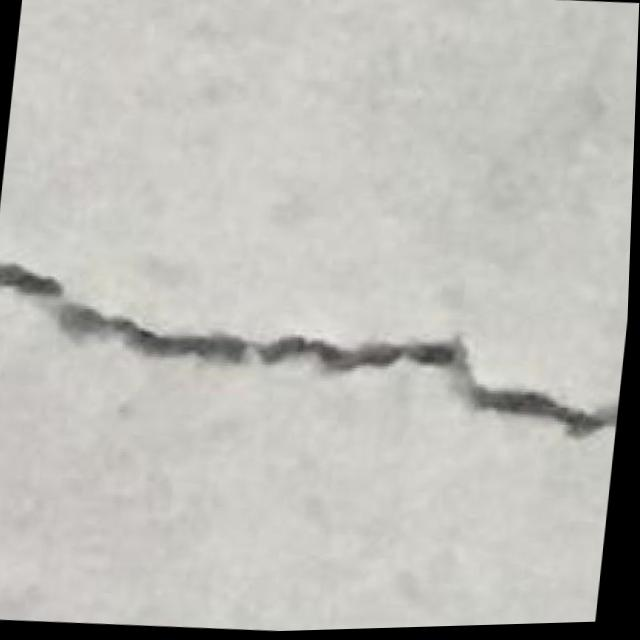Crack: (0, 229, 633, 477)
